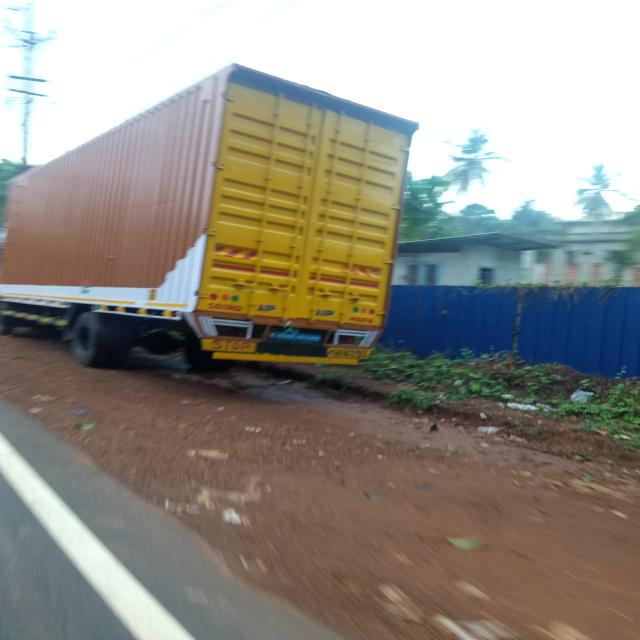Truck: (0, 51, 435, 387)
